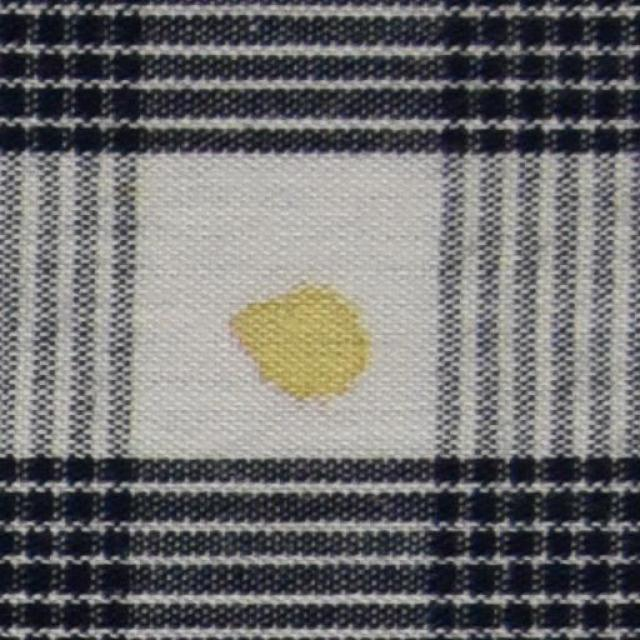Stain: (203, 263, 382, 406)
